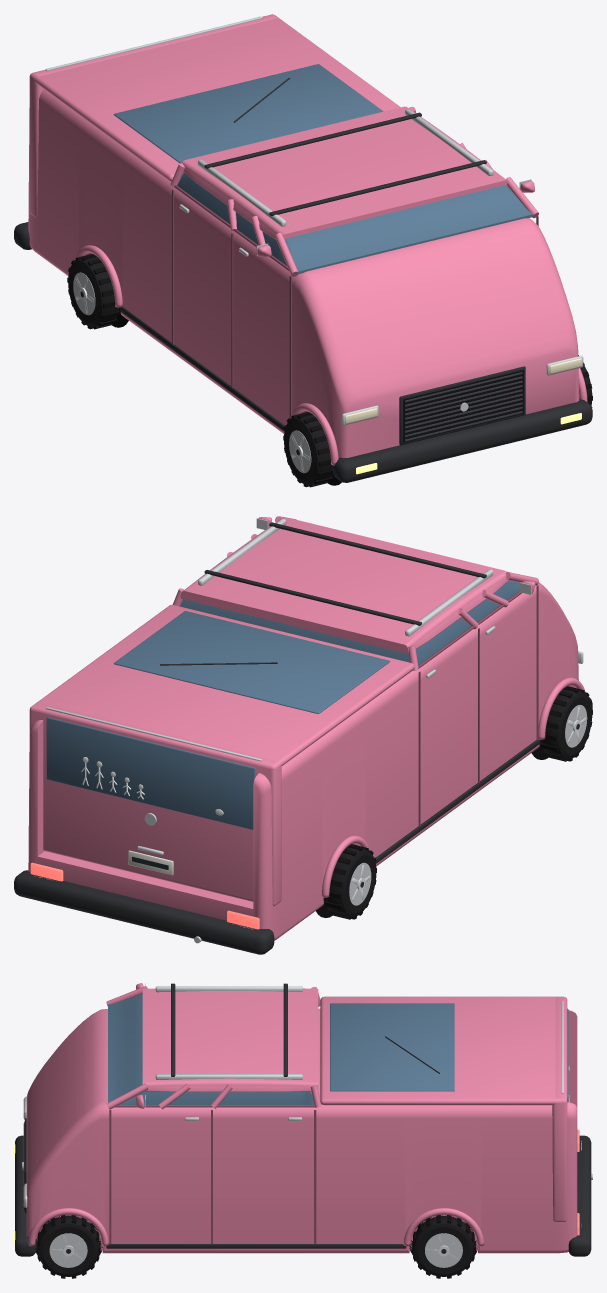
The model's file is wedding.fbx.
The picture shows the model from 3 angles, top to bottom: view 1: azimuth 30°, elevation 25°; view 2: azimuth 150°, elevation 25°; view 3: azimuth 270°, elevation 25°; orthographic projection. The views are drawn at different scales.
Visible parts, largest first — view 1: Body, Lid, Wheel_1, Wheel_3, LidFlap; view 2: Body, Lid, LidFlap, Wheel_3, Wheel_1; view 3: Body, Lid, Wheel_2, Wheel_0, LidFlap.
Part boxes in pixels (x1=…): Body: x1=14, y1=89, x2=592, y2=485; Lid: x1=29, y1=14, x2=400, y2=181; Wheel_1: x1=67, y1=254, x2=119, y2=329; Wheel_3: x1=283, y1=412, x2=333, y2=487; LidFlap: x1=29, y1=14, x2=277, y2=217; Body: x1=14, y1=516, x2=592, y2=954; Lid: x1=29, y1=604, x2=414, y2=769; LidFlap: x1=29, y1=703, x2=281, y2=906; Wheel_3: x1=540, y1=686, x2=592, y2=761; Wheel_1: x1=324, y1=844, x2=376, y2=919; Body: x1=14, y1=983, x2=592, y2=1256; Lid: x1=320, y1=996, x2=567, y2=1105; Wheel_2: x1=36, y1=1215, x2=100, y2=1278; Wheel_0: x1=412, y1=1215, x2=475, y2=1278; LidFlap: x1=552, y1=997, x2=569, y2=1221.
Bounding box in the file's own units: 6.5 × 4.98 × 13.36.
